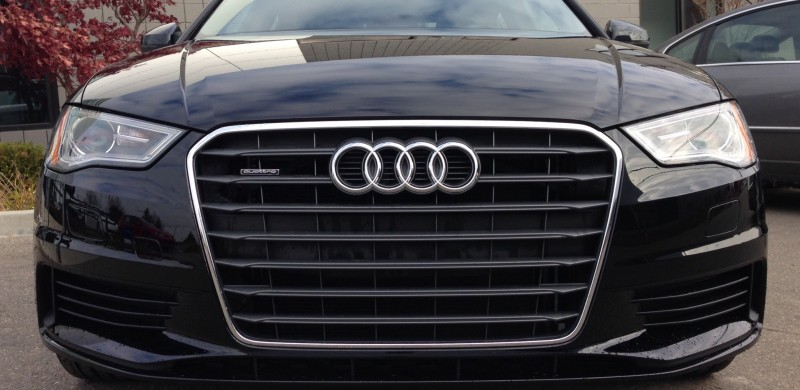audi: (316, 139, 491, 207)
